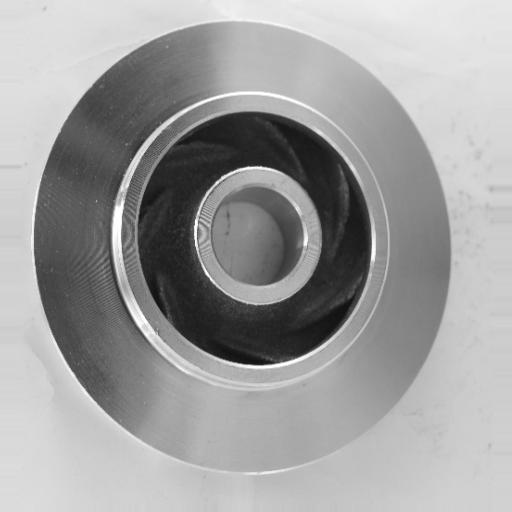polished_casting: (30, 20, 454, 474)
